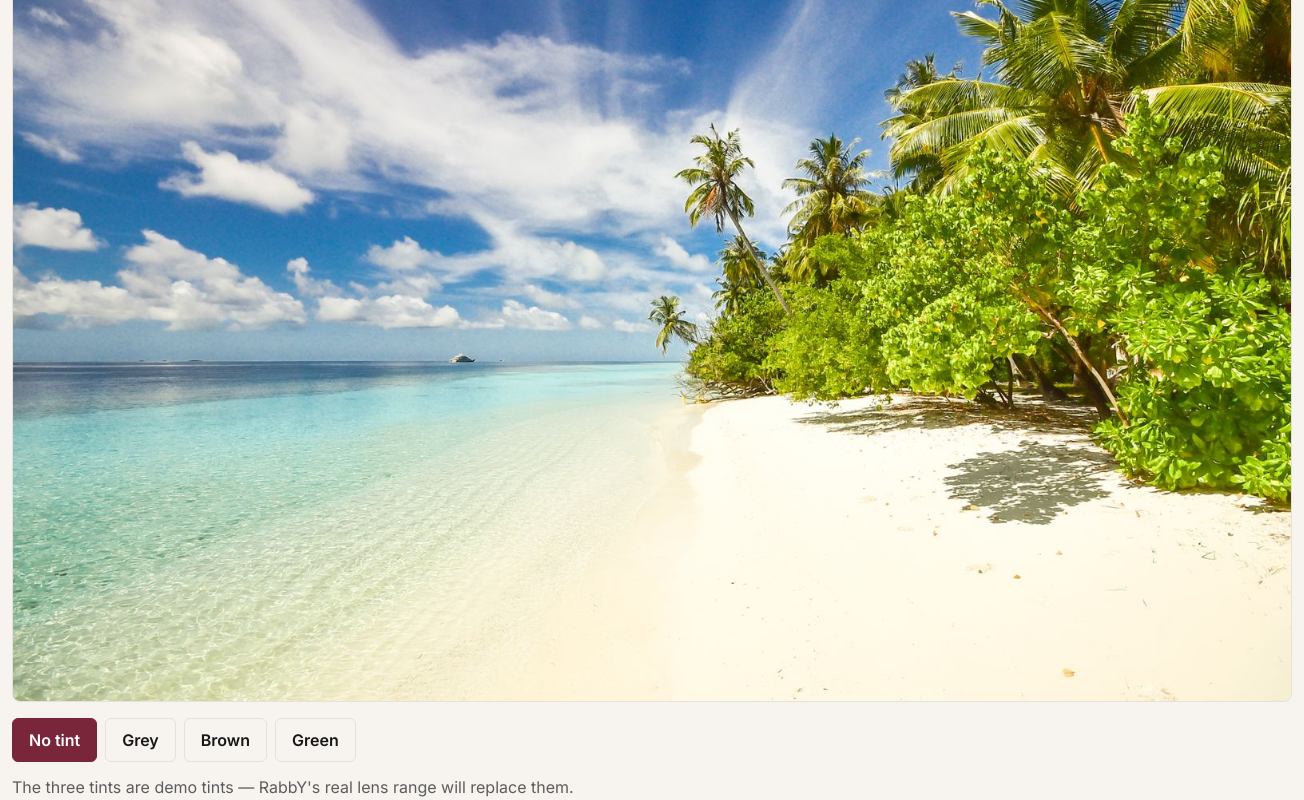
it: LensSimulator — tint preview (S-7, 1.x-7) › each tint shows its own overlay colour and caption
(page scrolled)
Click the button "Brown": (225, 740) [184,718,267,762]
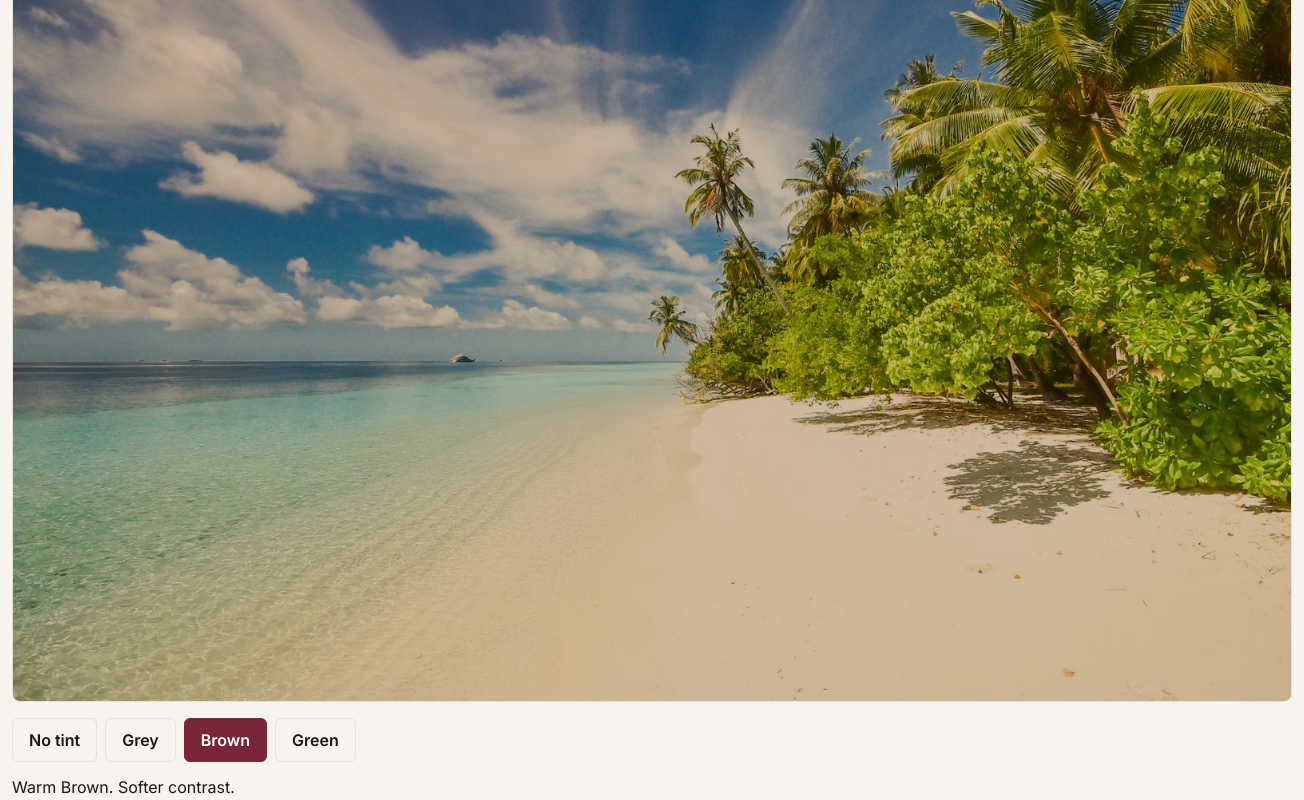
Expected: the text "Warm Brown. Softer contrast." is shown, [12,777,235,797]
Click the button "Green": (315, 740) [275,718,356,762]
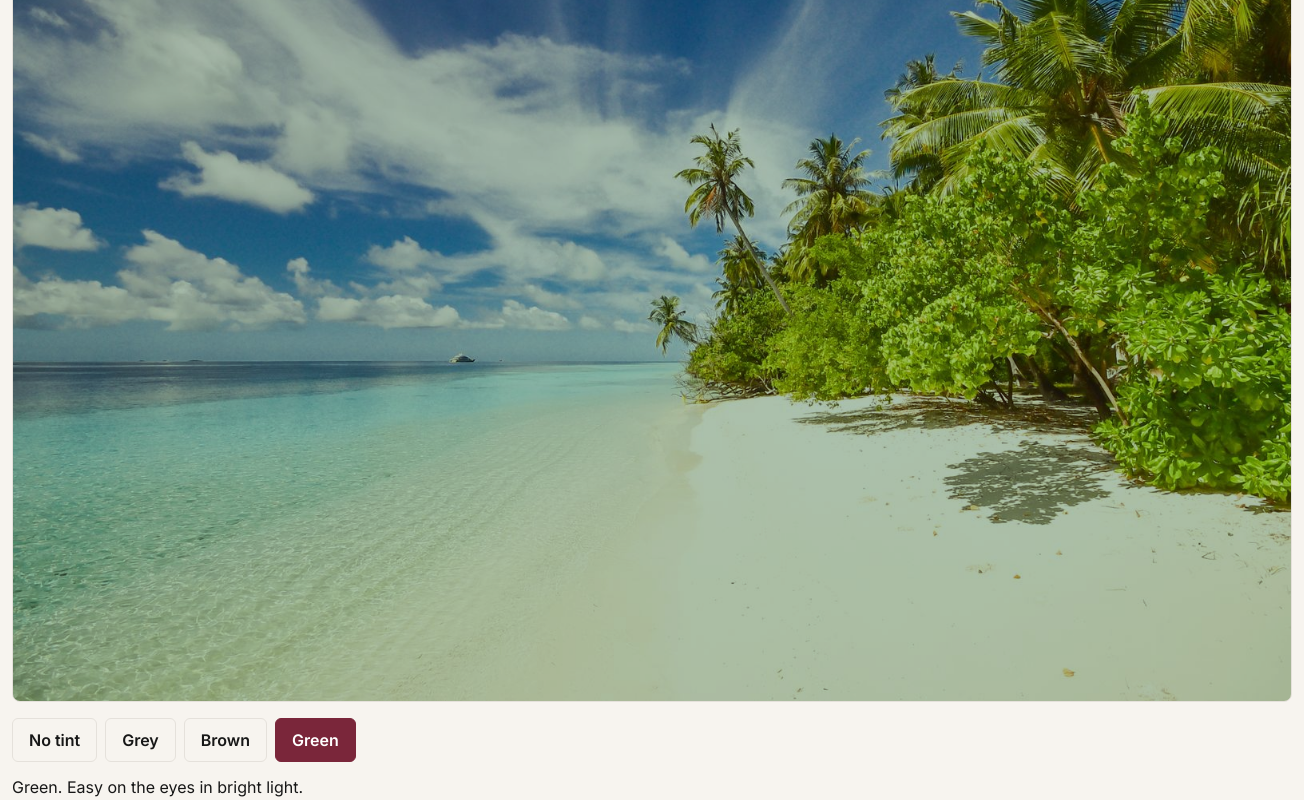
Expected: the text "Green. Easy on the eyes in bright light." is shown, [12,777,303,797]
